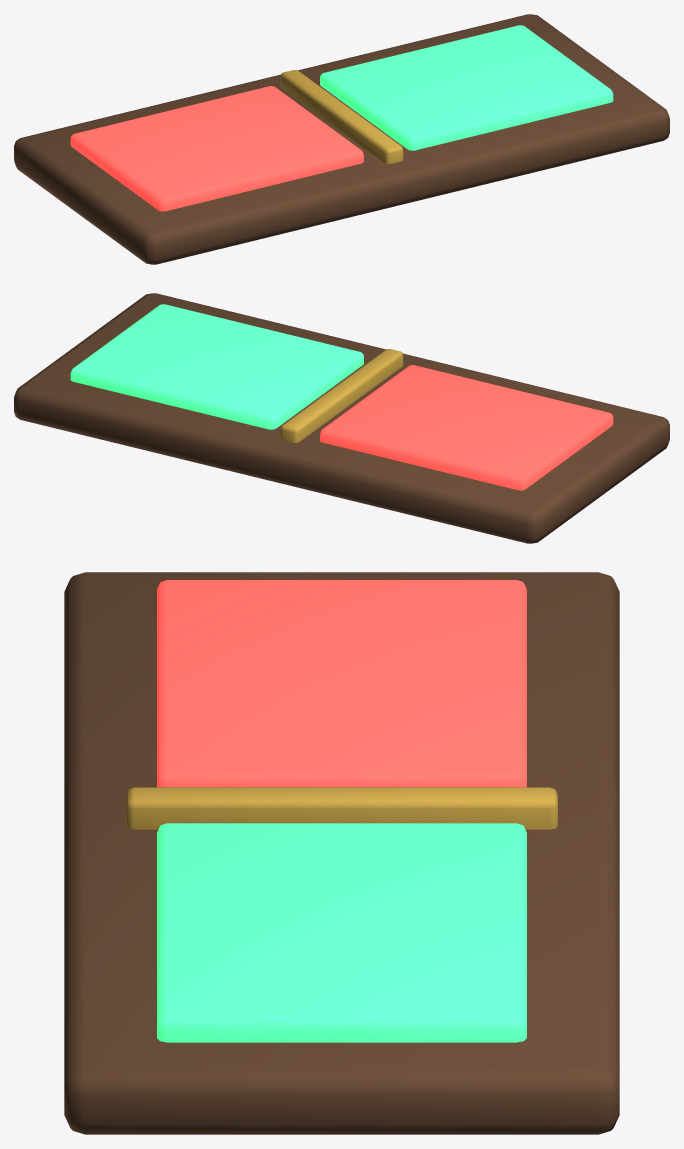
The model's file is Doc_StampRestPad.fbx.
The picture shows the model from 3 angles, top to bottom: view 1: azimuth 30°, elevation 25°; view 2: azimuth 150°, elevation 25°; view 3: azimuth 270°, elevation 25°; orthographic projection. The views are drawn at different scales.
Visible parts, largest first — view 1: RestPad_Tray, RestPad_RejectWell, RestPad_ApproveWell, RestPad_CenterDivider; view 2: RestPad_Tray, RestPad_RejectWell, RestPad_ApproveWell, RestPad_CenterDivider; view 3: RestPad_Tray, RestPad_ApproveWell, RestPad_RejectWell, RestPad_CenterDivider.
Part boxes in pixels (left/top/right/bottom): RestPad_Tray: left=14, top=14, right=669, bottom=264; RestPad_RejectWell: left=70, top=86, right=363, bottom=211; RestPad_ApproveWell: left=320, top=25, right=613, bottom=150; RestPad_CenterDivider: left=280, top=70, right=403, bottom=164; RestPad_Tray: left=14, top=293, right=669, bottom=543; RestPad_RejectWell: left=320, top=365, right=613, bottom=490; RestPad_ApproveWell: left=70, top=304, right=363, bottom=429; RestPad_CenterDivider: left=280, top=349, right=403, bottom=443; RestPad_Tray: left=64, top=572, right=619, bottom=1134; RestPad_ApproveWell: left=157, top=823, right=526, bottom=1042; RestPad_RejectWell: left=157, top=580, right=526, bottom=787; RestPad_CenterDivider: left=126, top=787, right=557, bottom=829.
Size of the model in its own units: 11.8 by 1 by 5.4.
